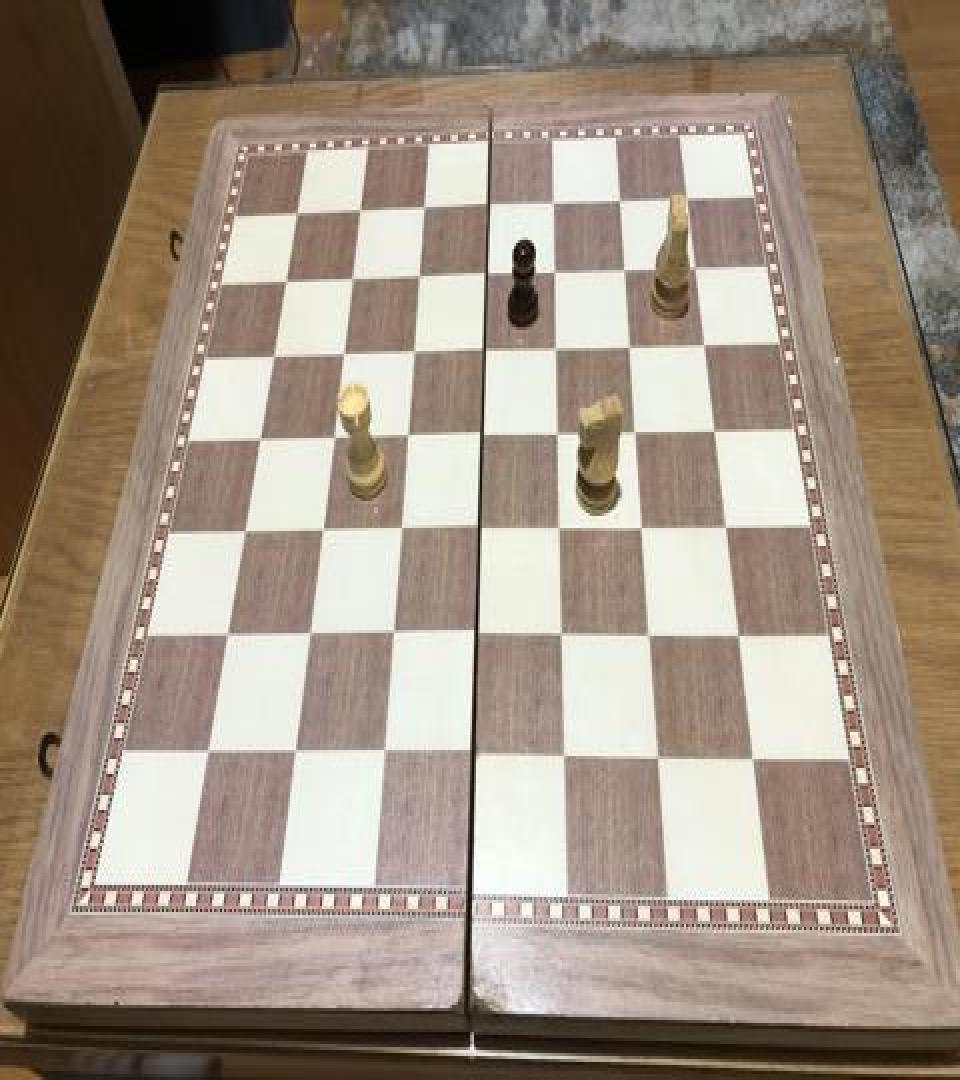xcorner: (232, 514, 256, 551), (741, 742, 765, 779), (553, 739, 577, 776), (673, 180, 697, 216), (605, 183, 629, 219), (539, 186, 563, 222), (474, 189, 498, 225), (410, 190, 434, 226), (346, 194, 370, 230), (283, 196, 307, 232), (681, 250, 705, 286), (610, 252, 634, 288), (541, 255, 565, 291), (472, 256, 496, 292), (338, 262, 362, 298), (272, 264, 296, 300), (690, 327, 714, 363), (616, 330, 640, 366), (543, 332, 567, 368), (471, 333, 495, 369), (399, 334, 423, 370), (329, 338, 353, 374), (260, 339, 284, 375), (701, 414, 725, 450), (622, 416, 646, 452), (545, 417, 569, 453), (469, 417, 493, 453), (394, 418, 418, 454), (320, 420, 344, 456), (247, 422, 271, 458), (712, 510, 736, 546), (629, 510, 653, 546), (547, 512, 571, 548), (466, 512, 490, 548), (387, 513, 411, 549), (309, 513, 333, 549), (726, 620, 750, 656), (637, 618, 661, 654), (550, 618, 574, 654), (464, 618, 488, 654), (380, 618, 404, 654), (297, 618, 321, 654), (215, 618, 239, 654), (646, 741, 670, 777), (461, 738, 485, 774), (371, 738, 395, 774), (283, 736, 307, 772), (196, 735, 220, 771), (405, 260, 429, 295)
